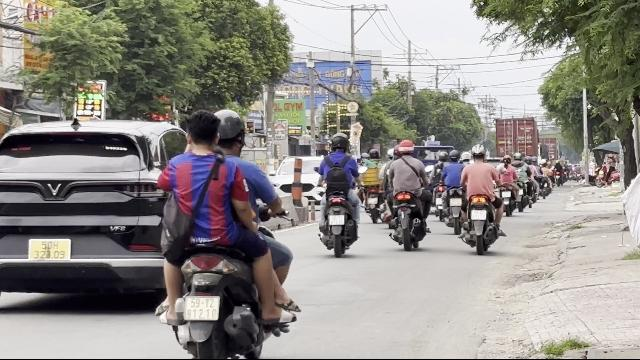helmet: (210, 108, 246, 156), (328, 132, 349, 152)
licenseplate: (184, 296, 220, 320), (328, 216, 344, 224)
motorcyclist: (147, 106, 300, 356), (314, 131, 362, 255)
nohelmet: (182, 111, 218, 151)
